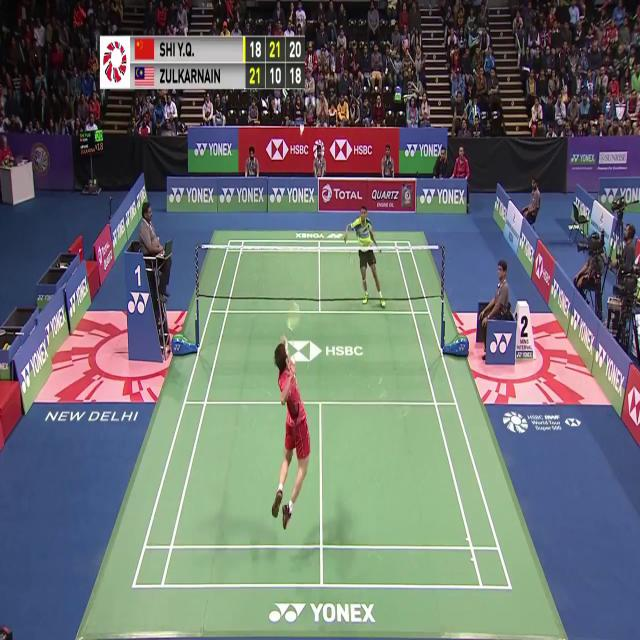Shuttlecock: (297, 129, 304, 141)
